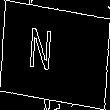N_S: (42, 28, 68, 82)
